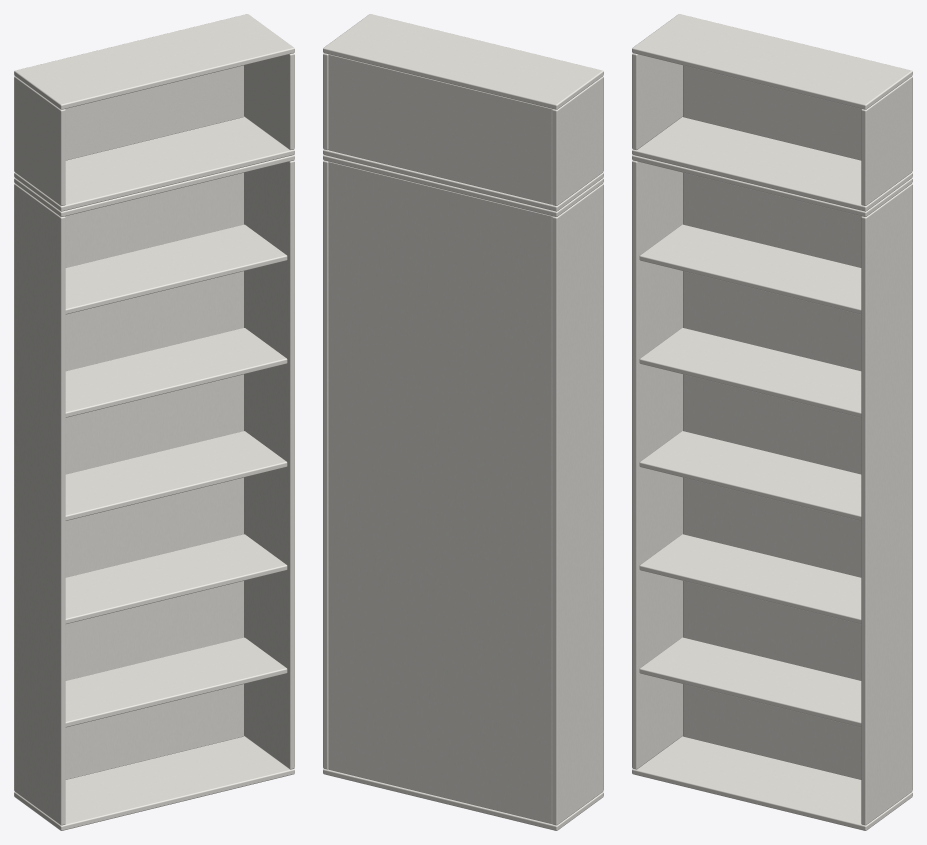
File: billy-tall-mobile.glb
3 views of the same model, side by side, from view 1: azimuth 30°, elevation 25°; view 2: azimuth 150°, elevation 25°; view 3: azimuth 330°, elevation 25° (orthographic).
Visible parts, largest first — view 1: BILLY Bookcase with top unit; view 2: BILLY Bookcase with top unit; view 3: BILLY Bookcase with top unit.
Boxes of the visible parts, bbox=[...] form: BILLY Bookcase with top unit: bbox=[14, 14, 294, 830]; BILLY Bookcase with top unit: bbox=[323, 14, 603, 830]; BILLY Bookcase with top unit: bbox=[632, 14, 912, 830].
Bounding box in the file's own units: 0.8 × 2.37 × 0.28.
1 material, 1 textured.
